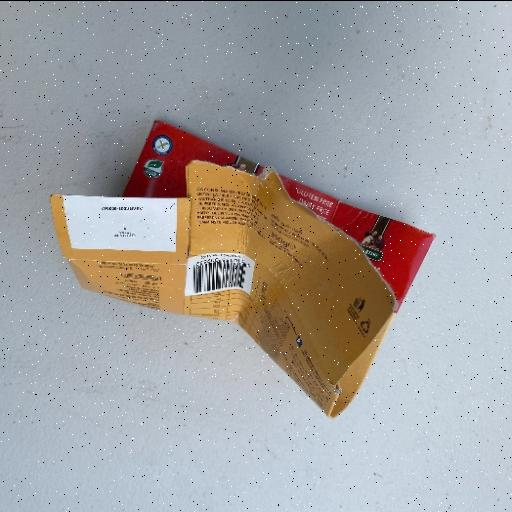Cardboard: (48, 116, 436, 419)
